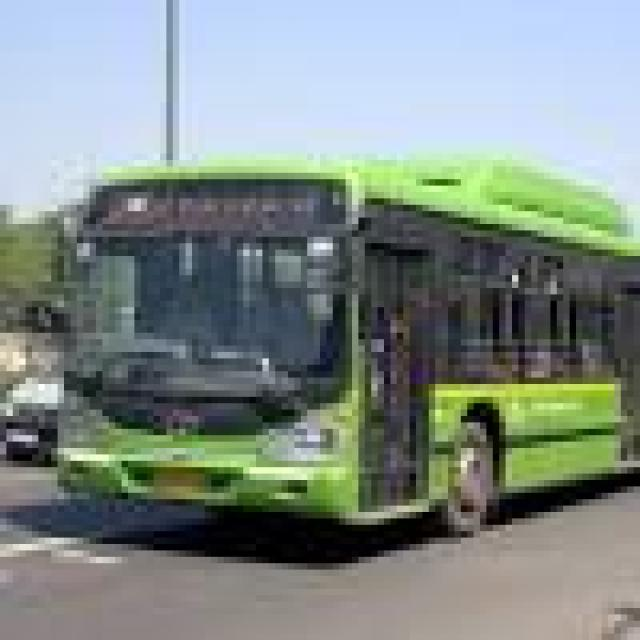BUS: (38, 166, 628, 532)
